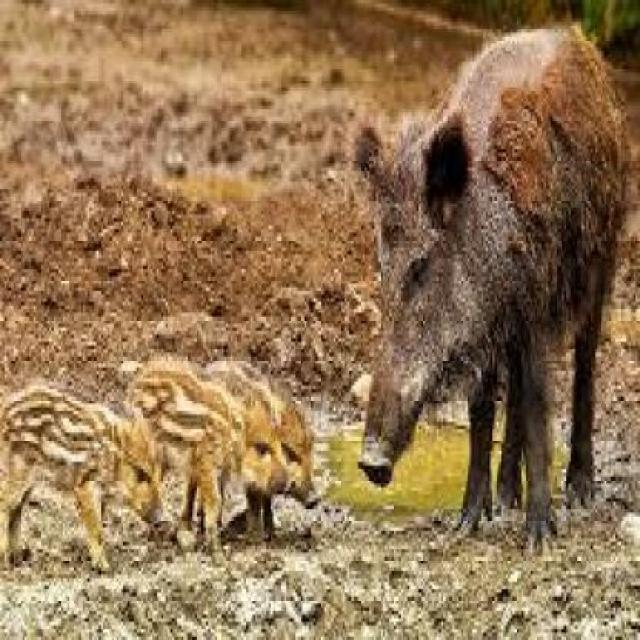Wild Boar: (349, 11, 631, 547), (1, 369, 172, 566), (126, 348, 290, 540), (211, 343, 325, 537)
